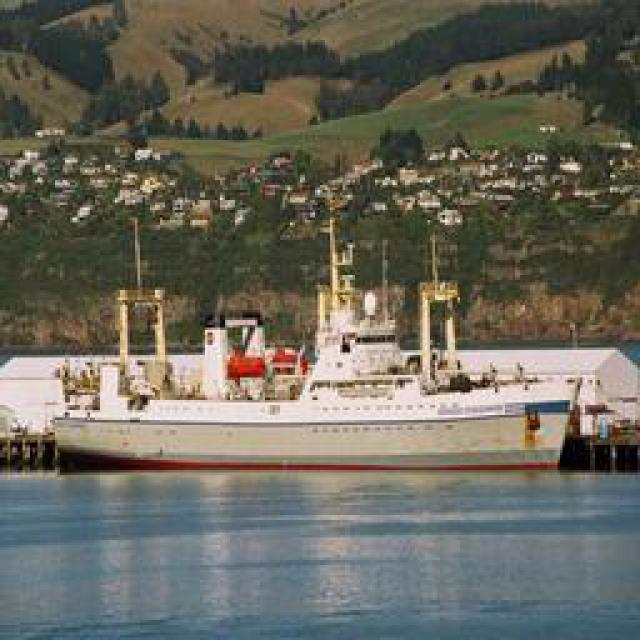Ship: (24, 331, 627, 474)
